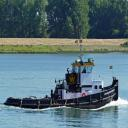tugboat: (4, 27, 120, 115)
